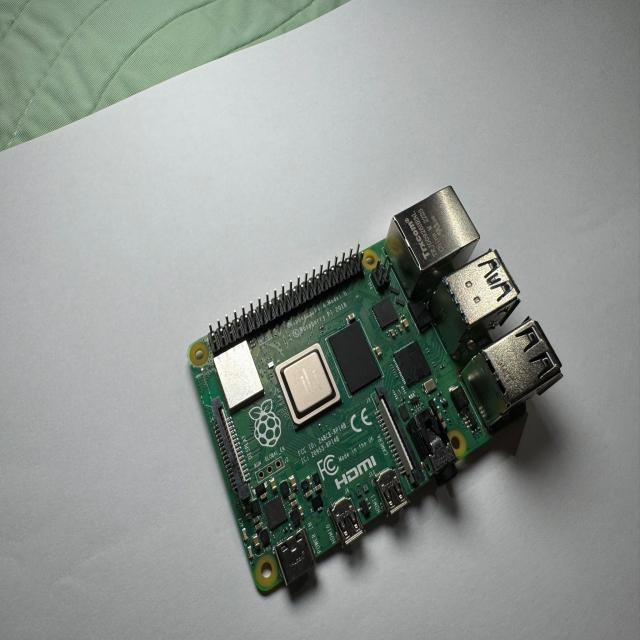CPU: (273, 339, 343, 429)
Ethernet: (381, 183, 483, 304)
GPIO: (207, 241, 366, 358)
RAM: (327, 317, 382, 397)
Raspberry: (187, 182, 570, 597)
micro-hdmi: (373, 465, 411, 518), (329, 495, 366, 548)
